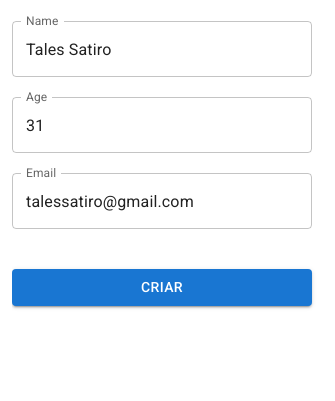
Scenario: UserForm Component › should display an error message when a required input is cleaned
Clear the field labelled "Name" at (162, 49), box x1=12 y1=21 x2=312 y2=77
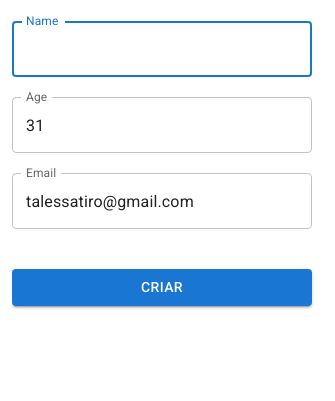
Clear the field labelled "Age" at (162, 125), box x1=12 y1=97 x2=312 y2=153
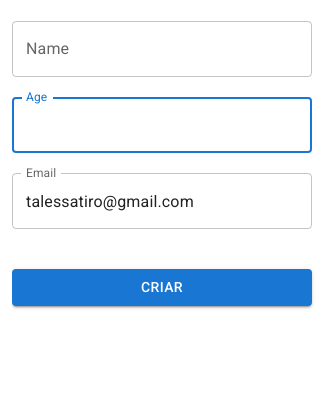
Clear the field labelled "Email" at (162, 201), box x1=12 y1=173 x2=312 y2=229
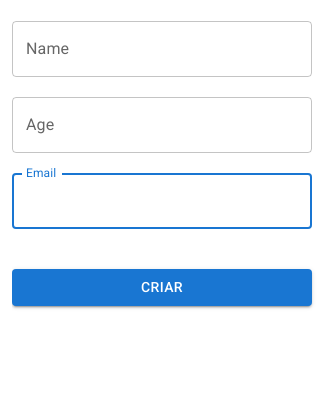
Click the button "Criar" at (162, 287), box x1=12 y1=269 x2=312 y2=306
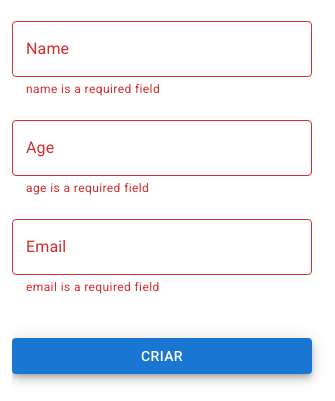
Expected: the text "name is a required field" is shown, x1=26 y1=82 x2=160 y2=96
Expected: the text "age is a required field" is shown, x1=26 y1=181 x2=149 y2=195
Expected: the text "email is a required field" is shown, x1=26 y1=280 x2=160 y2=294
